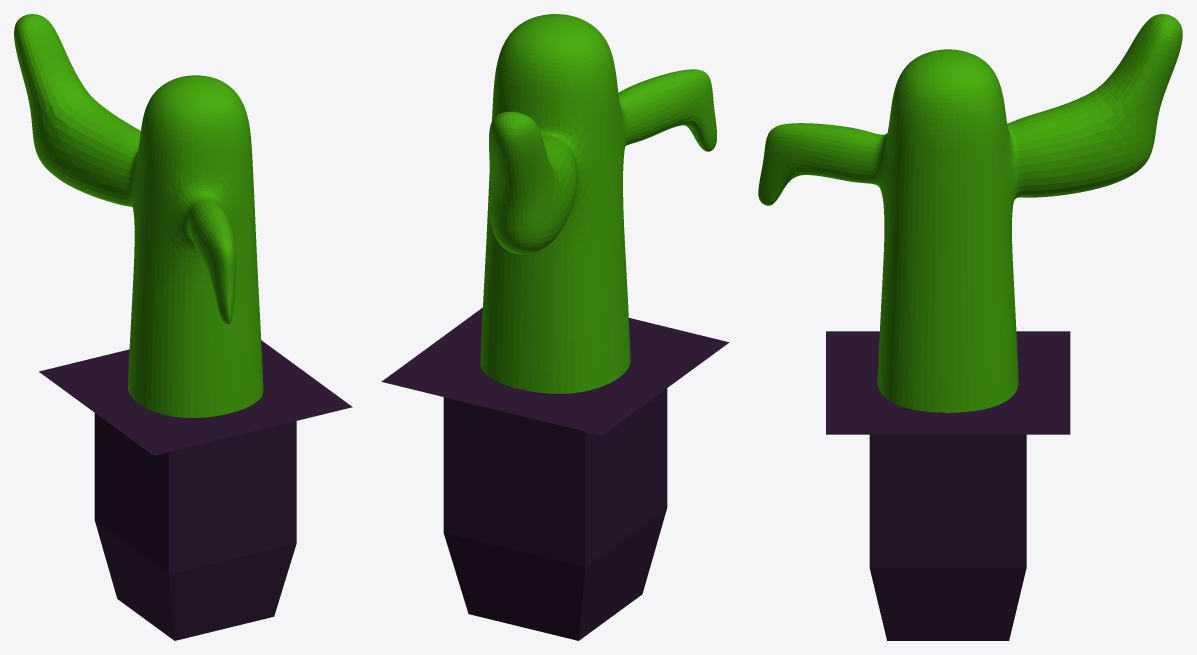
File: mmianzo.dae
3 views of the same model, side by side, from view 1: azimuth 30°, elevation 25°; view 2: azimuth 150°, elevation 25°; view 3: azimuth 270°, elevation 25° (orthographic). The views are drawn at different scales.
Parts seen in each view (by area): view 1: Cube-S3D-13, Cube-S3D-14; view 2: Cube-S3D-14, Cube-S3D-13; view 3: Cube-S3D-13, Cube-S3D-14.
Boxes of the visible parts, x1=… form: Cube-S3D-13: x1=14, y1=14, x2=263, y2=417; Cube-S3D-14: x1=39, y1=340, x2=352, y2=640; Cube-S3D-14: x1=381, y1=307, x2=729, y2=640; Cube-S3D-13: x1=480, y1=14, x2=716, y2=393; Cube-S3D-13: x1=758, y1=14, x2=1182, y2=412; Cube-S3D-14: x1=826, y1=331, x2=1070, y2=640.
Bounding box in the file's own units: 3.11 × 7.95 × 5.4.
